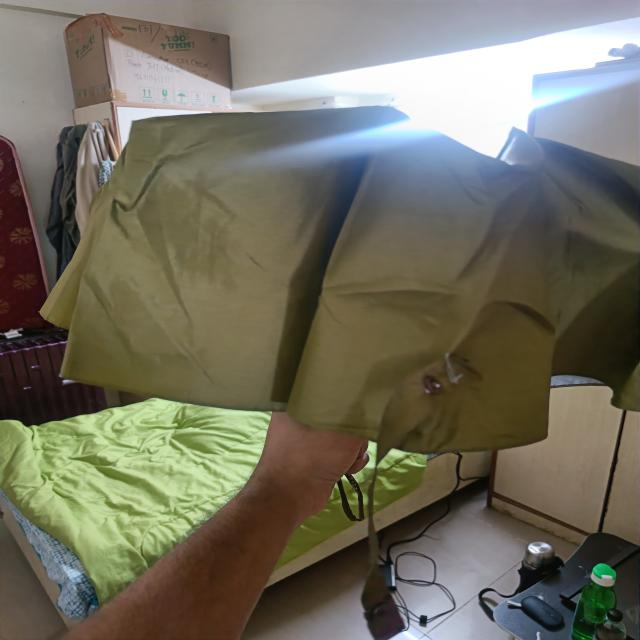umbrella: (51, 90, 640, 447)
